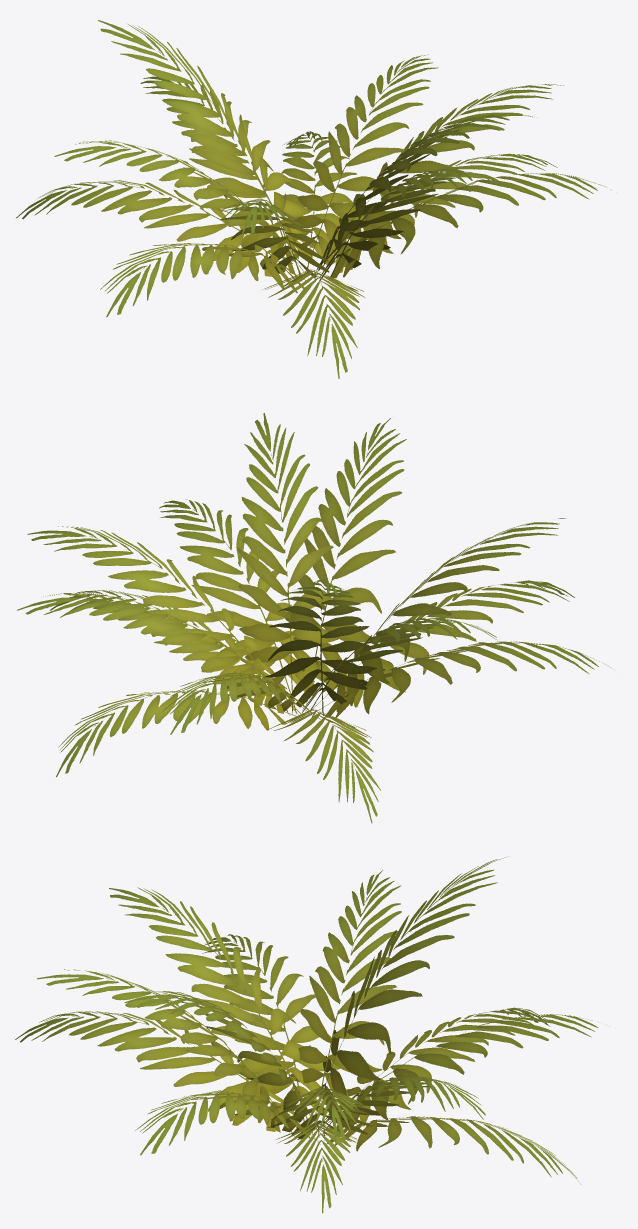
The model's file is fern 01.obj.
The picture shows the model from 3 angles, top to bottom: view 1: azimuth 30°, elevation 25°; view 2: azimuth 150°, elevation 25°; view 3: azimuth 270°, elevation 25°; orthographic projection.
Visible parts, largest first — view 1: tree; view 2: tree; view 3: tree.
Boxes of the visible parts, left/top/right/bottom form: tree: left=16, top=20, right=611, bottom=378; tree: left=17, top=413, right=610, bottom=823; tree: left=15, top=857, right=609, bottom=1213.
Bounding box in the file's own units: 196 × 78.05 × 191.
